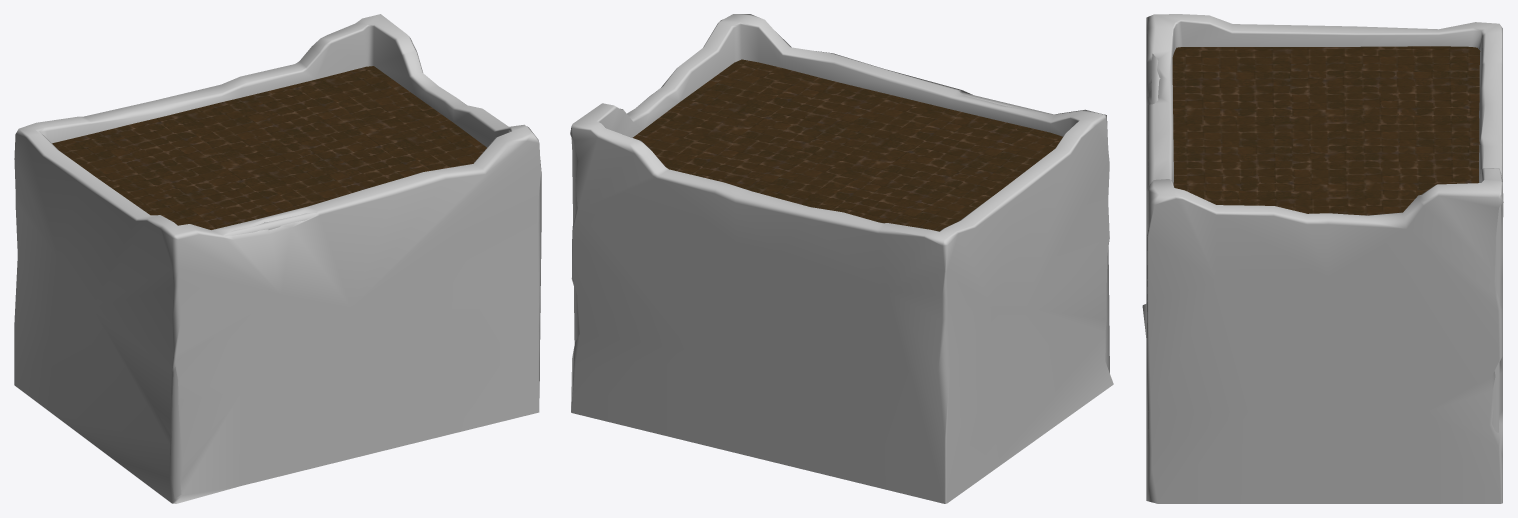
File: lower_city_house_07.fbx
The picture shows the model from 3 angles, left to right: view 1: azimuth 30°, elevation 25°; view 2: azimuth 150°, elevation 25°; view 3: azimuth 270°, elevation 25°; orthographic projection. The views are drawn at different scales.
Visible parts, largest first — view 1: lower_city_house_07; view 2: lower_city_house_07; view 3: lower_city_house_07.
Boxes of the visible parts, x1,y1,x2,y2 form: lower_city_house_07: (14,14,541,503); lower_city_house_07: (570,14,1113,503); lower_city_house_07: (1142,14,1503,503).
Size of the model in its own units: 10.26 by 7.44 by 7.8.
